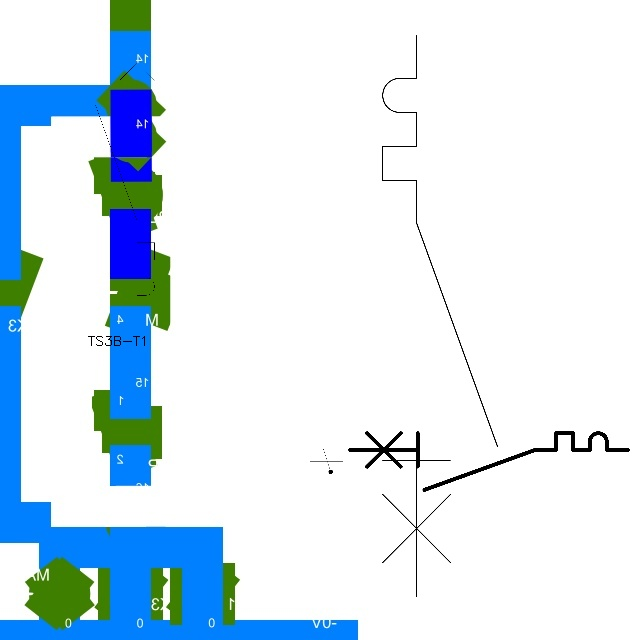interruptor_termomagnetico: (368, 21, 512, 611), (88, 20, 162, 325), (343, 426, 635, 497)
